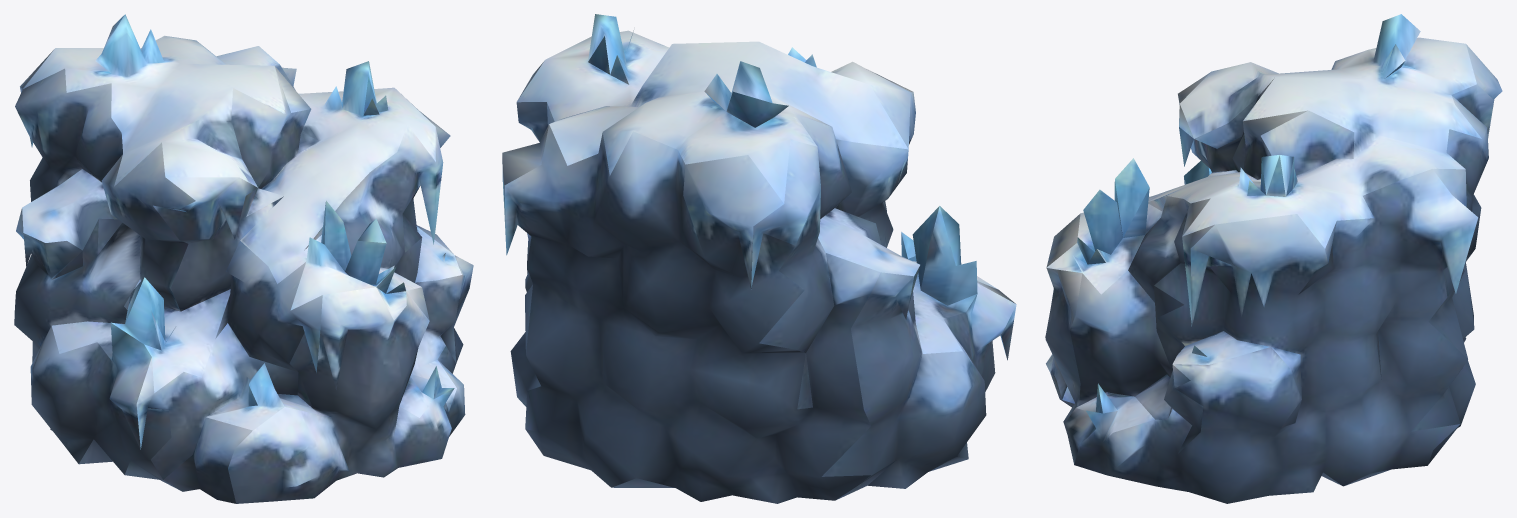
File: d_givre_massif.glb
3 renders of one model, left to right at view 1: azimuth 30°, elevation 25°; view 2: azimuth 150°, elevation 25°; view 3: azimuth 270°, elevation 25°, orthographic. The views are drawn at different scales.
Parts seen in each view (by area): view 1: geometry_0; view 2: geometry_0; view 3: geometry_0.
Part boxes in pixels (bbox=[...]): geometry_0: bbox=[14, 14, 473, 503]; geometry_0: bbox=[502, 14, 1016, 503]; geometry_0: bbox=[1045, 14, 1502, 503].
Bounding box in the file's own units: 1 × 0.8907 × 0.9851.
Materials: 1 (1 with a texture image).
